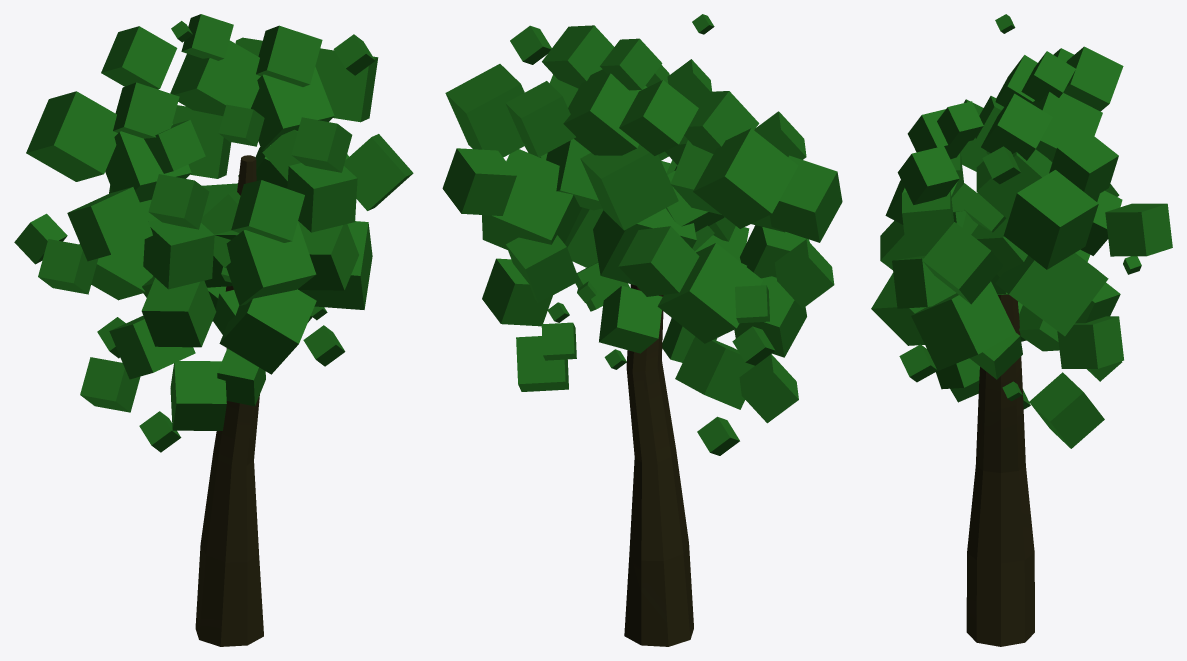
3 views of the same model, side by side, from view 1: azimuth 30°, elevation 25°; view 2: azimuth 150°, elevation 25°; view 3: azimuth 270°, elevation 25° (orthographic). The views are drawn at different scales.
Parts seen in each view (by area): view 1: polySurface241, polySurface218, polySurface215, polySurface274, polySurface272, polySurface238, polySurface246, polySurface244, polySurface247, polySurface223, polySurface236, polySurface271 (+30 smaller); view 2: polySurface218, polySurface241, polySurface255, polySurface225, polySurface240, polySurface215, polySurface237, polySurface238, polySurface246, polySurface259, polySurface219, polySurface249 (+30 smaller); view 3: polySurface237, polySurface232, polySurface255, polySurface218, polySurface215, polySurface216, polySurface266, polySurface219, polySurface220, polySurface275, polySurface248, polySurface233 (+26 smaller).
Boxes of the visible parts, x1=… form: polySurface241: x1=26, y1=91, x2=117, y2=181; polySurface218: x1=204, y1=401, x2=256, y2=540; polySurface215: x1=197, y1=510, x2=261, y2=619; polySurface274: x1=219, y1=289, x2=316, y2=374; polySurface272: x1=226, y1=222, x2=316, y2=305; polySurface238: x1=170, y1=40, x2=260, y2=115; polySurface246: x1=67, y1=187, x2=152, y2=261; polySurface244: x1=141, y1=278, x2=216, y2=347; polySurface247: x1=143, y1=219, x2=214, y2=289; polySurface223: x1=170, y1=361, x2=226, y2=430; polySurface236: x1=251, y1=67, x2=334, y2=150; polySurface271: x1=287, y1=163, x2=357, y2=232; polySurface218: x1=630, y1=360, x2=685, y2=533; polySurface241: x1=693, y1=128, x2=798, y2=228; polySurface255: x1=482, y1=149, x2=582, y2=249; polySurface225: x1=657, y1=243, x2=762, y2=343; polySurface240: x1=580, y1=144, x2=678, y2=230; polySurface215: x1=629, y1=502, x2=692, y2=623; polySurface237: x1=445, y1=64, x2=525, y2=157; polySurface238: x1=563, y1=69, x2=647, y2=155; polySurface246: x1=769, y1=155, x2=842, y2=242; polySurface259: x1=618, y1=226, x2=699, y2=296; polySurface219: x1=442, y1=148, x2=516, y2=215; polySurface249: x1=619, y1=80, x2=698, y2=155; polySurface237: x1=1003, y1=170, x2=1098, y2=269; polySurface232: x1=911, y1=281, x2=1015, y2=370; polySurface255: x1=995, y1=253, x2=1108, y2=336; polySurface218: x1=970, y1=391, x2=1030, y2=522; polySurface215: x1=966, y1=512, x2=1034, y2=600; polySurface216: x1=966, y1=561, x2=1034, y2=646; polySurface266: x1=922, y1=222, x2=1003, y2=304; polySurface219: x1=1105, y1=203, x2=1172, y2=256; polySurface220: x1=1029, y1=372, x2=1104, y2=448; polySurface275: x1=979, y1=294, x2=1024, y2=441; polySurface248: x1=1049, y1=130, x2=1118, y2=197; polySurface233: x1=1057, y1=316, x2=1123, y2=368.
Size of the model in its own units: 289 by 475 by 217.
